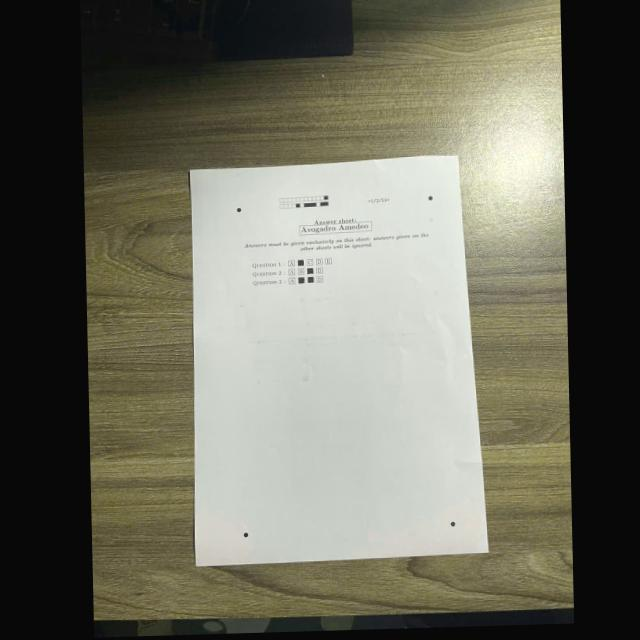Markers: (450, 521, 456, 527), (243, 532, 249, 538), (236, 207, 241, 213), (428, 195, 433, 201)
